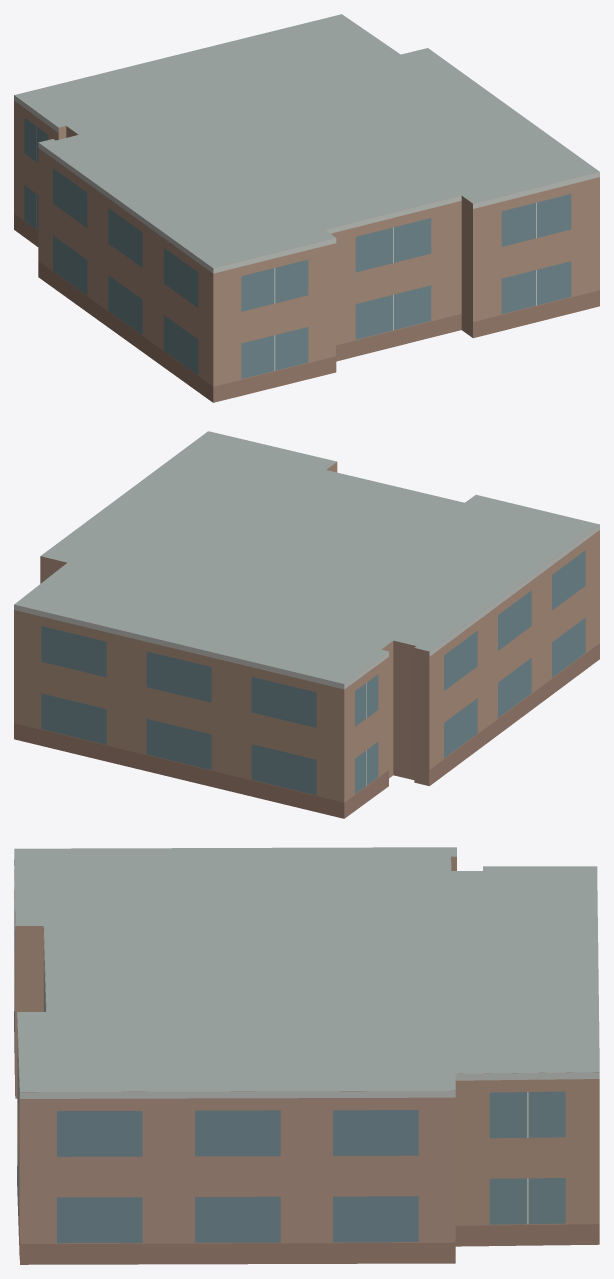
File: survey-upis-32493779.glb
3 renders of one model, top to bottom at view 1: azimuth 30°, elevation 25°; view 2: azimuth 150°, elevation 25°; view 3: azimuth 270°, elevation 25°, orthographic. The views are drawn at different scales.
Visible parts, largest first — view 1: survey-upis-32493779.tmp; view 2: survey-upis-32493779.tmp; view 3: survey-upis-32493779.tmp.
Boxes of the visible parts, x1,y1,x2,y2 form: survey-upis-32493779.tmp: [14, 14, 599, 402]; survey-upis-32493779.tmp: [14, 431, 599, 818]; survey-upis-32493779.tmp: [14, 847, 599, 1264].
Size of the model in its own units: 18.57 by 6.1 by 18.77.
